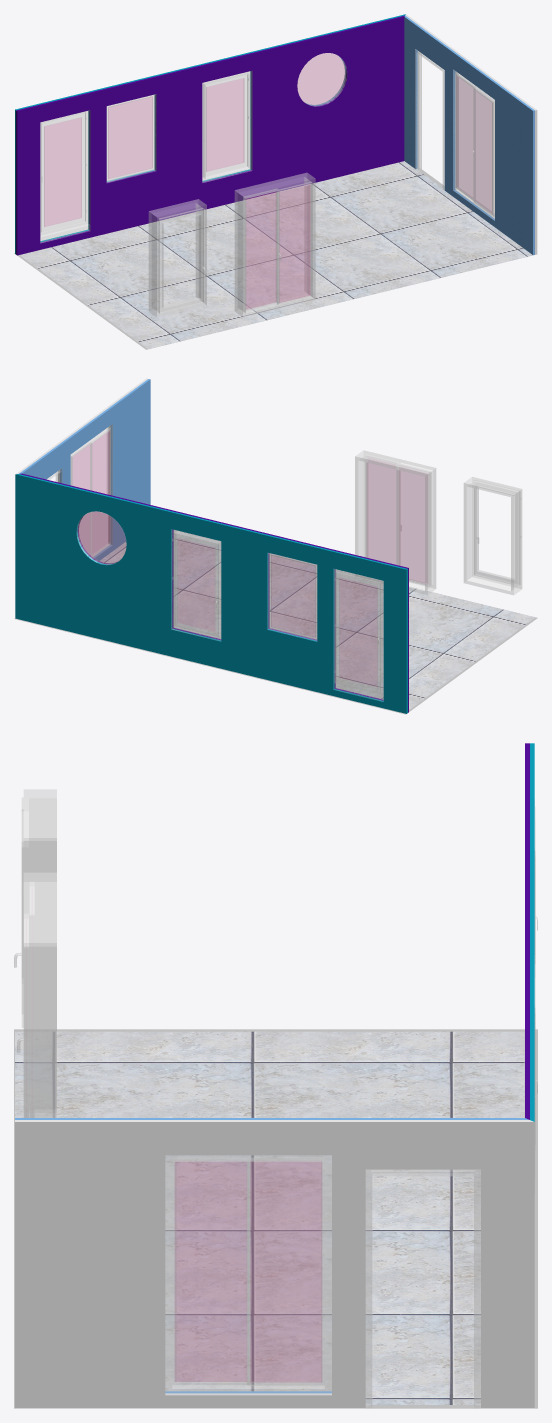
The model's file is winTest.gltf.
The picture shows the model from 3 angles, top to bottom: view 1: azimuth 30°, elevation 25°; view 2: azimuth 150°, elevation 25°; view 3: azimuth 270°, elevation 25°; orthographic projection. The views are drawn at different scales.
Visible parts, largest first — view 1: windows.003; view 2: windows.003; view 3: windows.003.
Boxes of the visible parts, left/top/right/bottom form: windows.003: left=14, top=14, right=537, bottom=349; windows.003: left=14, top=378, right=537, bottom=714; windows.003: left=14, top=743, right=537, bottom=1408.
Size of the model in its own units: 56.58 by 19.9 by 33.05.
Materials: 8 (1 with a texture image).
